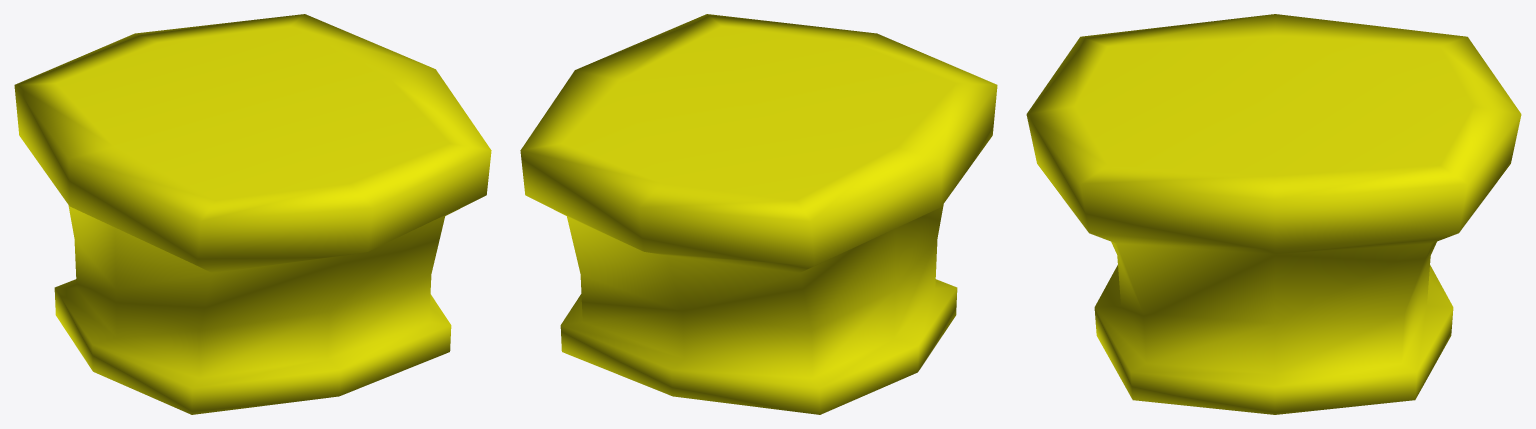
File: S_Pillar_01_C_02.fbx
3 renders of one model, left to right at view 1: azimuth 30°, elevation 25°; view 2: azimuth 150°, elevation 25°; view 3: azimuth 270°, elevation 25°, orthographic. The views are drawn at different scales.
Visible parts, largest first — view 1: S_Pillar_01_C_02; view 2: S_Pillar_01_C_02; view 3: S_Pillar_01_C_02.
Part boxes in pixels (x1,y1,x2,y2): S_Pillar_01_C_02: (14, 14, 491, 414); S_Pillar_01_C_02: (520, 14, 997, 414); S_Pillar_01_C_02: (1026, 14, 1521, 414).
Size of the model in its own units: 69.64 by 40.03 by 78.33.
